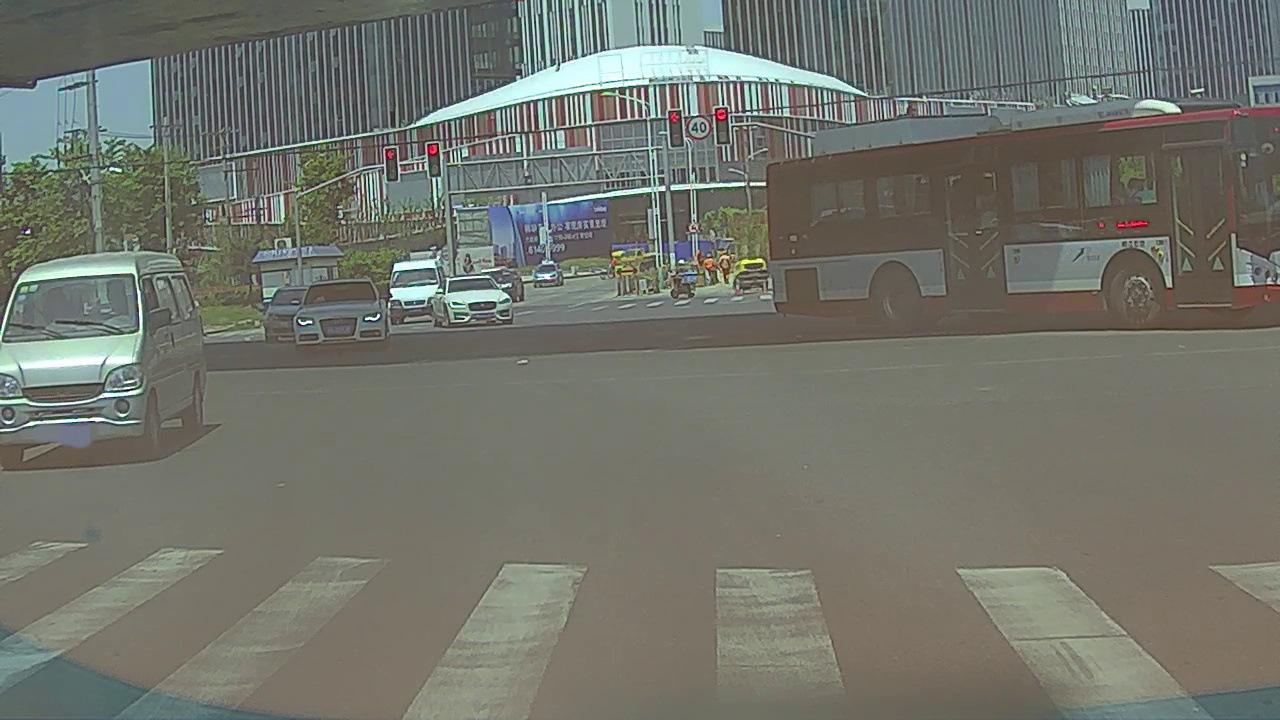traffic_light: (667, 110, 685, 147), (714, 106, 731, 145), (428, 142, 442, 178), (385, 147, 398, 182)
